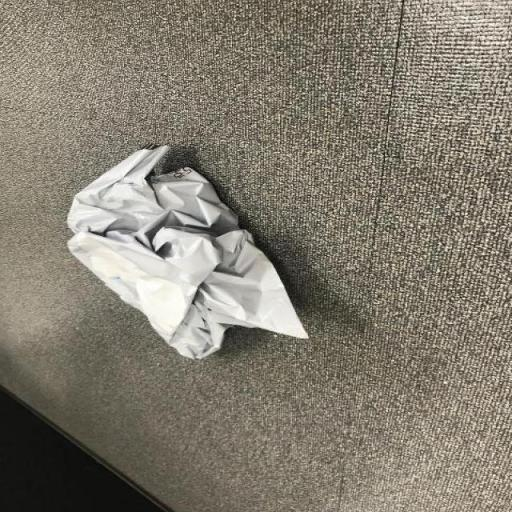plastic-bag: (62, 138, 316, 362)
